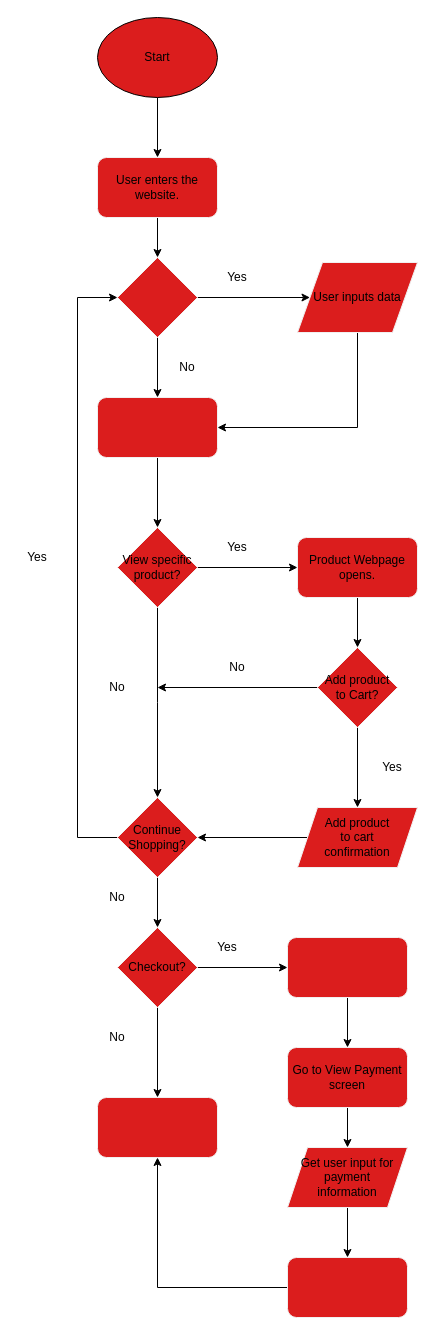
Image size: 435x1335. Some labels were removed from this diagram. Here are the shapes that lost their labels. From the top down, the centre of each, then its label:
At (x=157, y=297): "Search for Product?".
At (x=157, y=427): "User looks over products".
At (x=347, y=967): "Reach the View Cart Screen".
At (x=157, y=1127): "User leaves the website.".
At (x=347, y=1287): "Go to order confirmation screen and send email".
